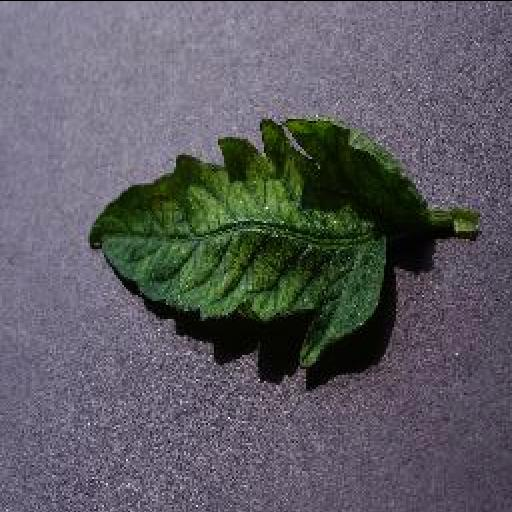Mosaic Virus: (82, 117, 426, 371)
